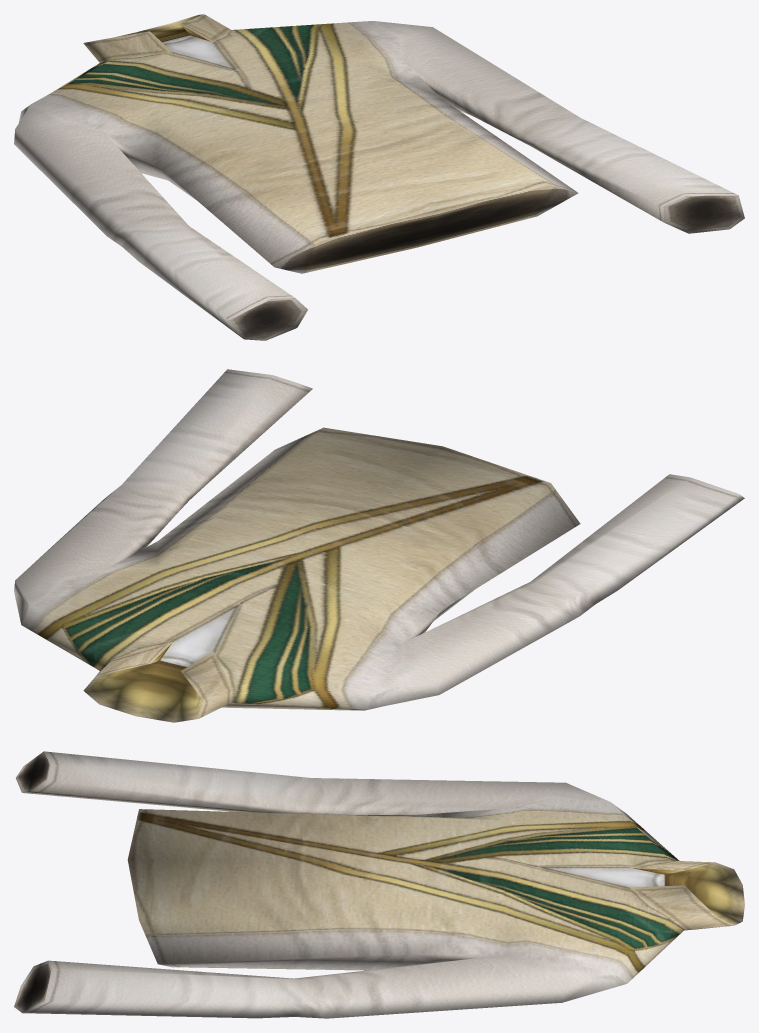
Rendered from m_Torso2.glb.
3 renders of one model, top to bottom at view 1: azimuth 30°, elevation 25°; view 2: azimuth 150°, elevation 25°; view 3: azimuth 270°, elevation 25°, orthographic.
Visible parts, largest first — view 1: Torso2; view 2: Torso2; view 3: Torso2.
Boxes of the visible parts, bbox=[...] form: Torso2: bbox=[14, 14, 744, 340]; Torso2: bbox=[14, 369, 744, 722]; Torso2: bbox=[14, 751, 744, 1018].
Size of the model in its own units: 33.2 by 3.55 by 40.91.
Materials: 1 (1 with a texture image).
